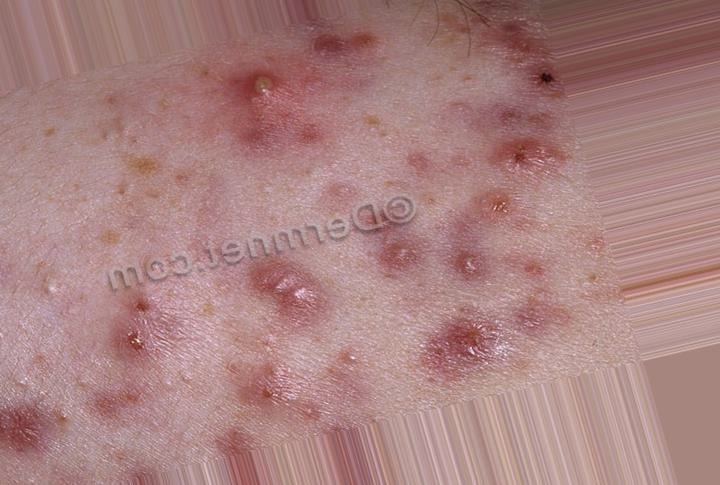Acne: (3, 42, 561, 394)
